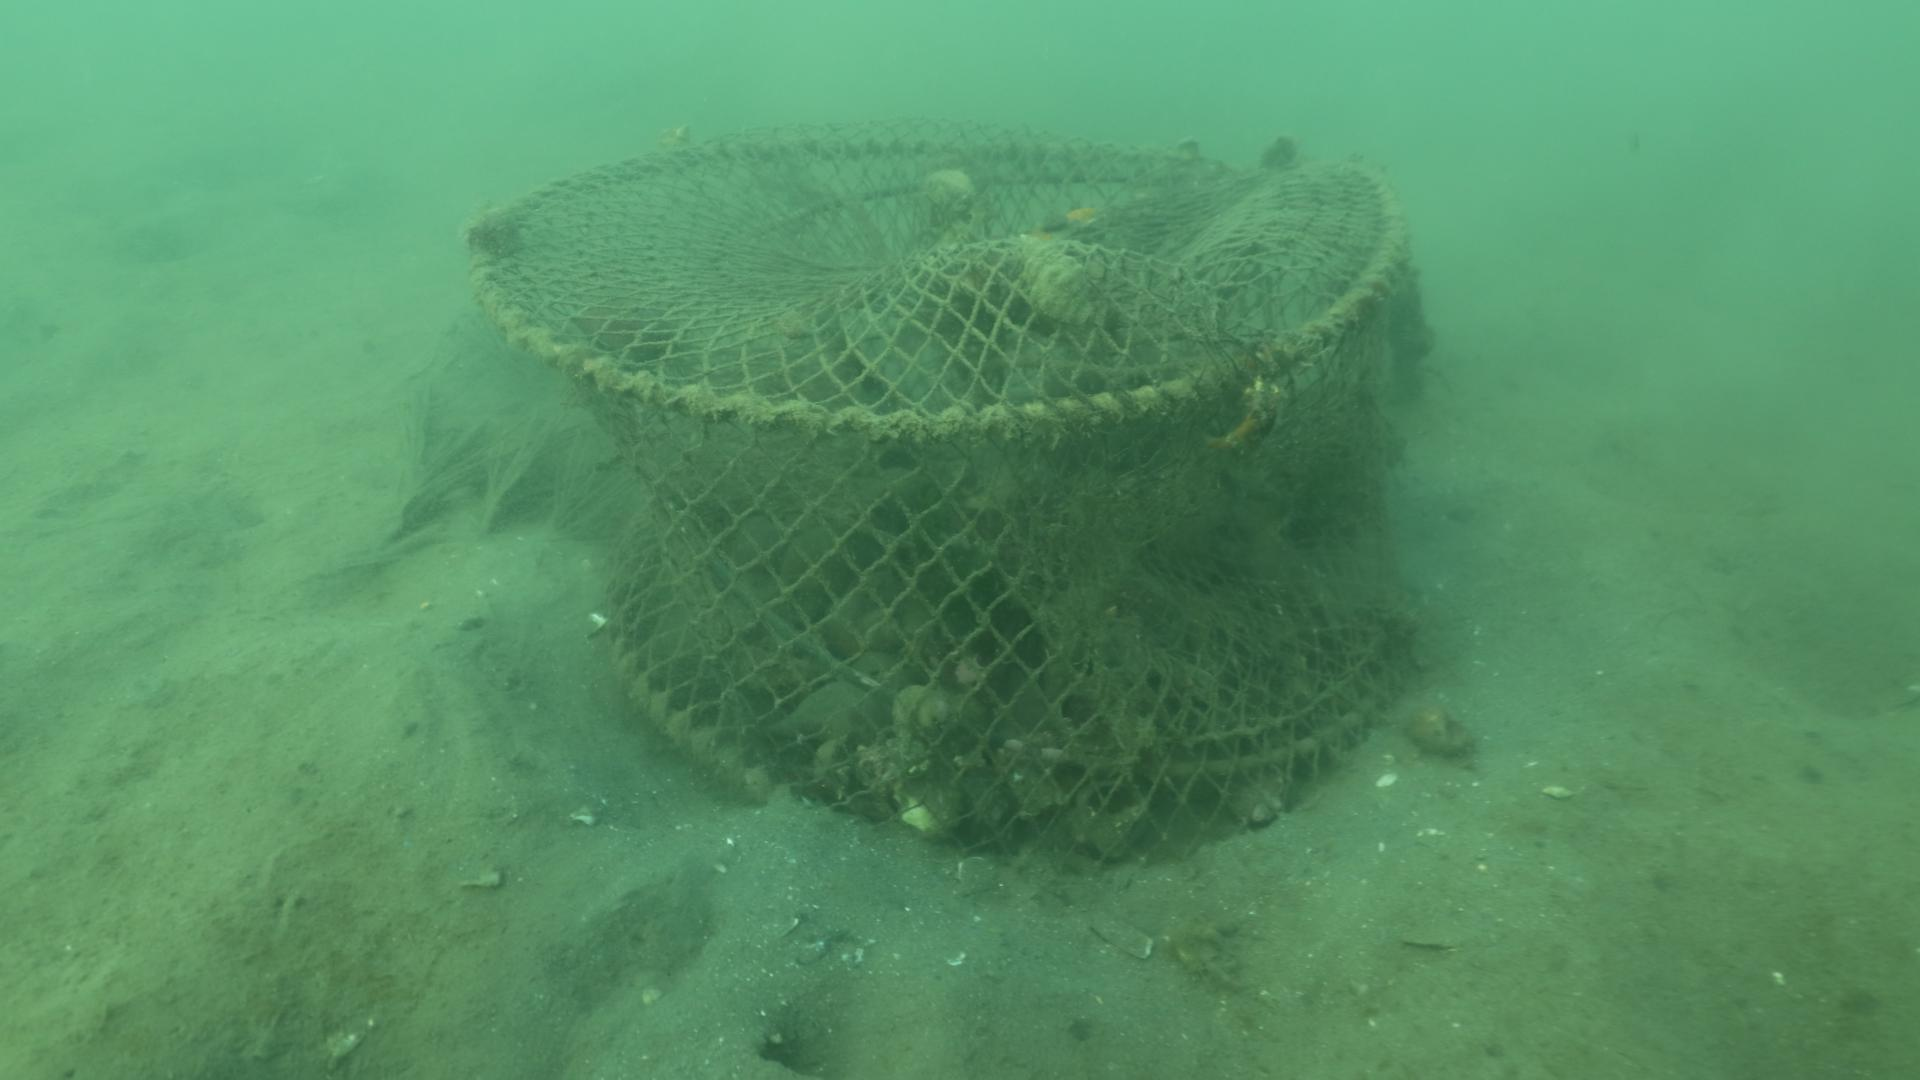circular fish trap: (463, 113, 1433, 857)
